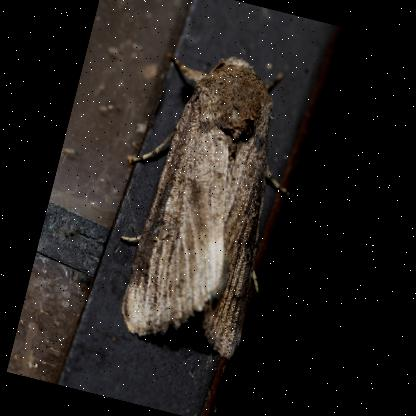Fall Armyworm Moth: (85, 32, 328, 370)
